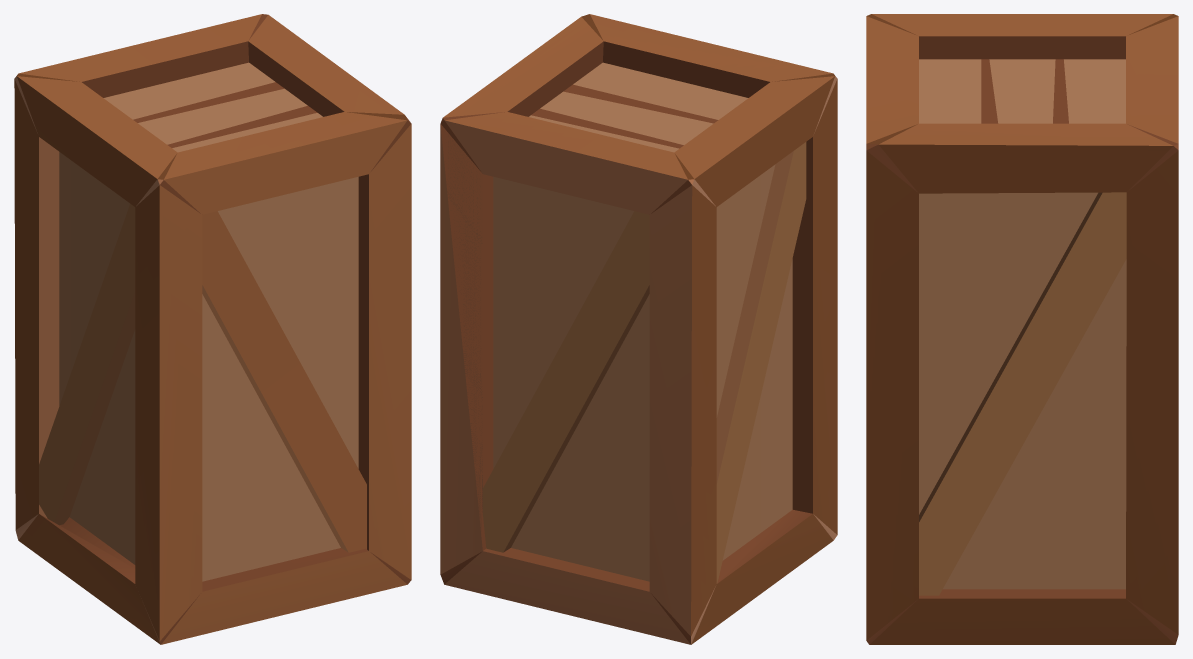
File: thunggo01.fbx
The picture shows the model from 3 angles, left to right: view 1: azimuth 30°, elevation 25°; view 2: azimuth 150°, elevation 25°; view 3: azimuth 270°, elevation 25°; orthographic projection. The views are drawn at different scales.
Parts seen in each view (by area): view 1: thunggo01; view 2: thunggo01; view 3: thunggo01.
Part boxes in pixels (left/top/right/bottom): thunggo01: left=14, top=14, right=411, bottom=644; thunggo01: left=440, top=14, right=837, bottom=644; thunggo01: left=866, top=14, right=1178, bottom=644.
Size of the model in its own units: 115 by 204 by 115.
